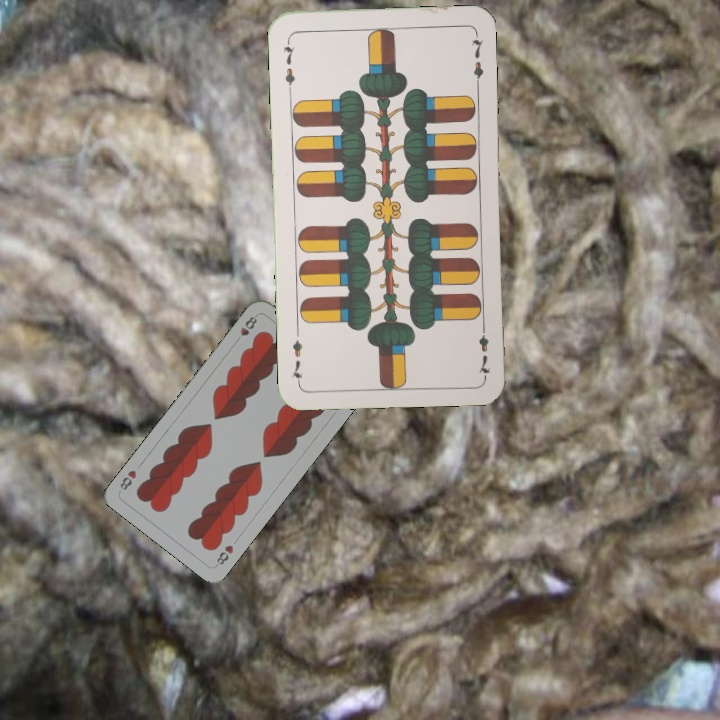E7: (279, 35, 298, 94), (474, 320, 493, 379)
H8: (212, 541, 236, 569), (236, 312, 260, 338)
